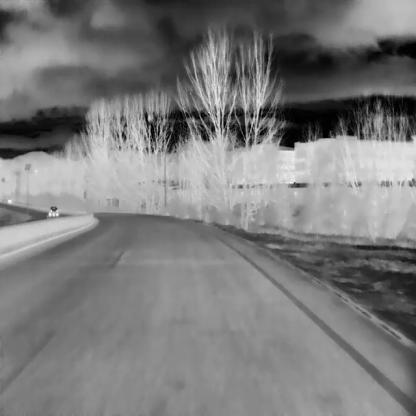car: (47, 205, 58, 216)
